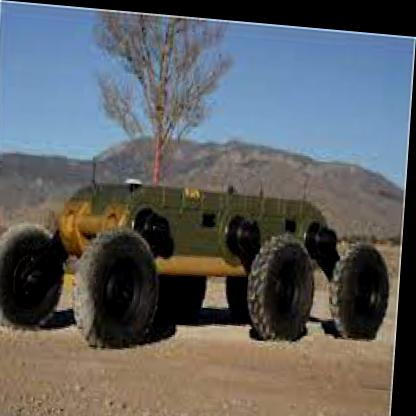UGV: (0, 171, 397, 366)
